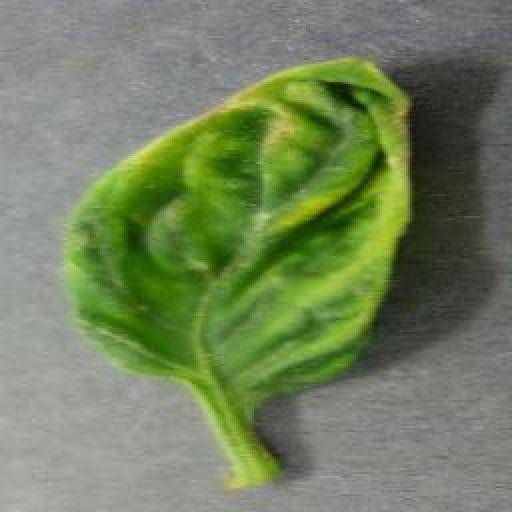Yellow Leaf Curl Virus: (61, 52, 411, 401)
